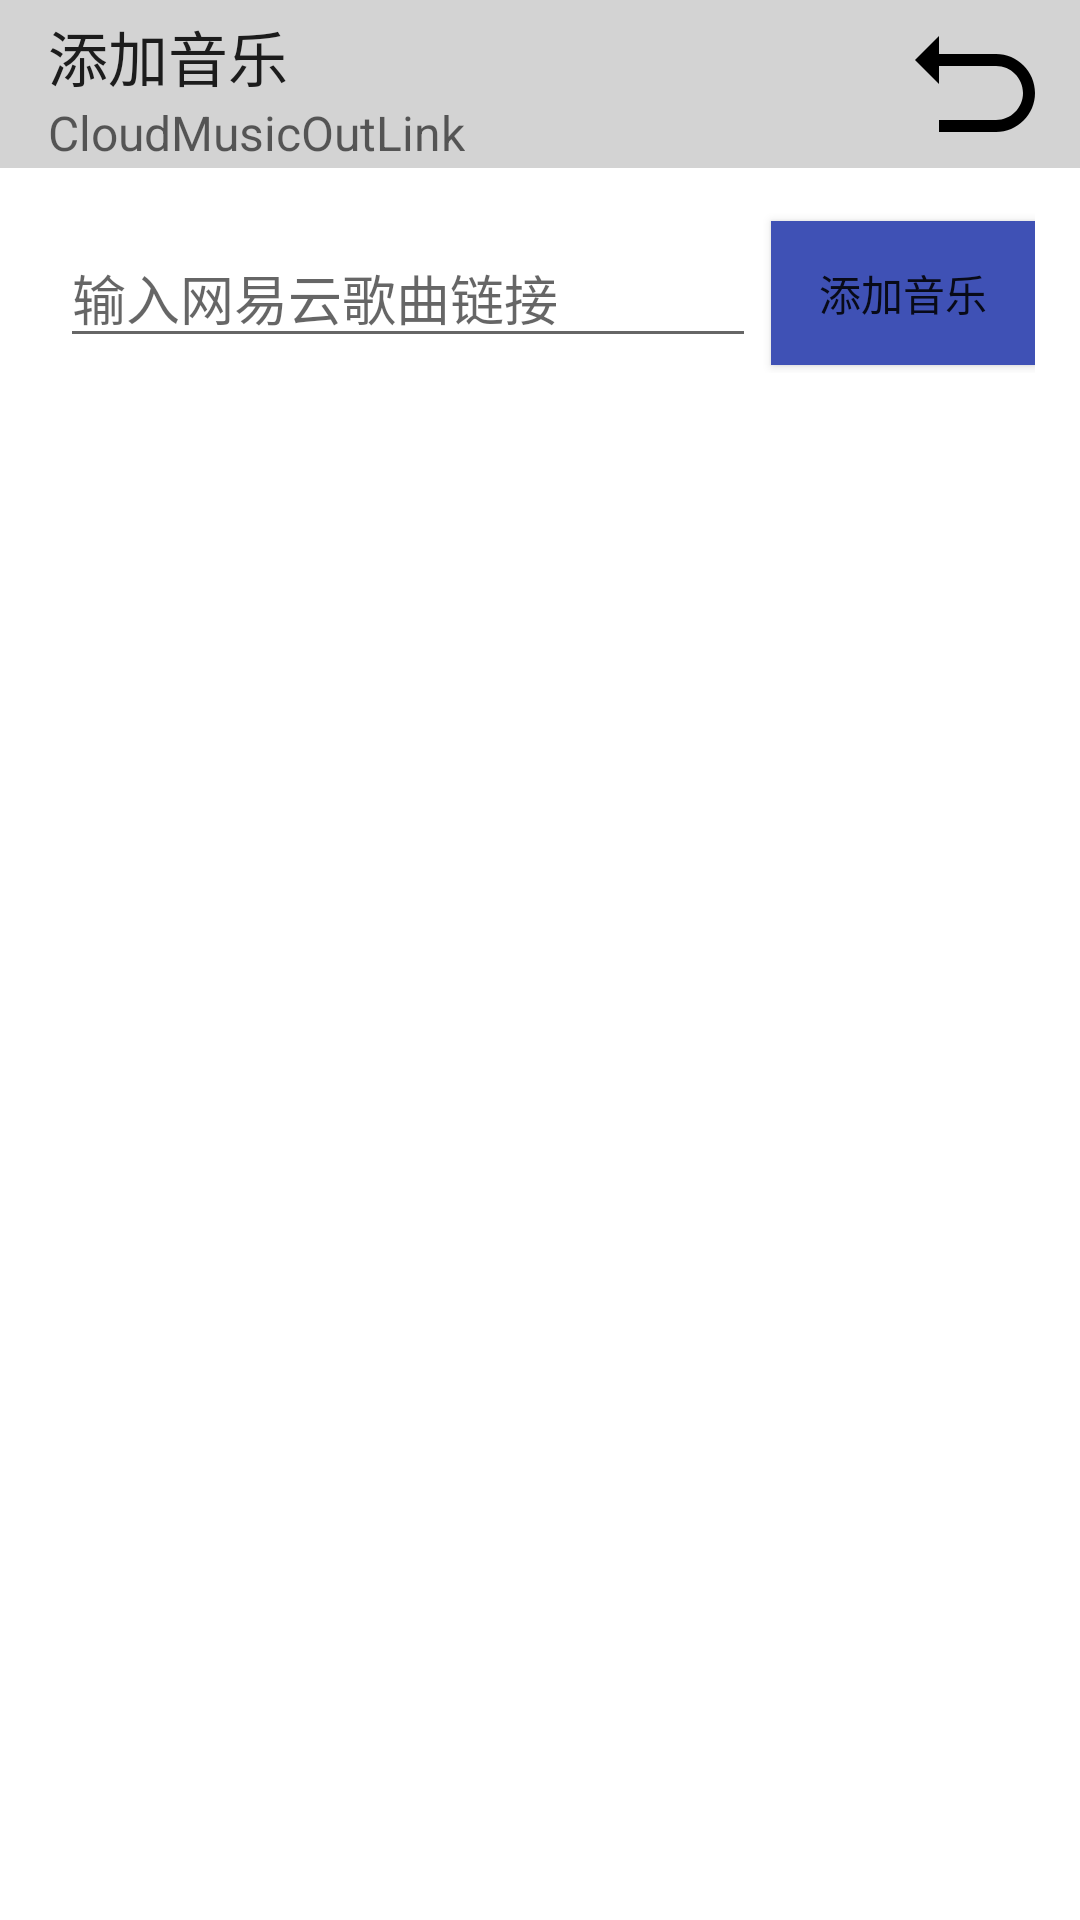

Named icons in this screenshot (1080 x 1920) and their centers, [x,y]:
backward: [975,84]
